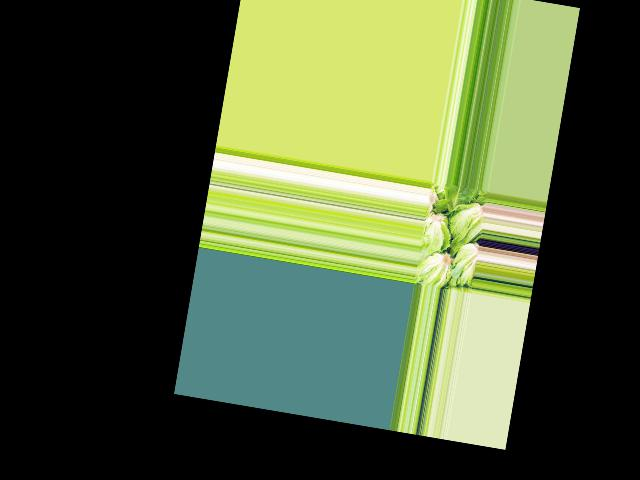lettuce: (441, 183, 469, 211)
